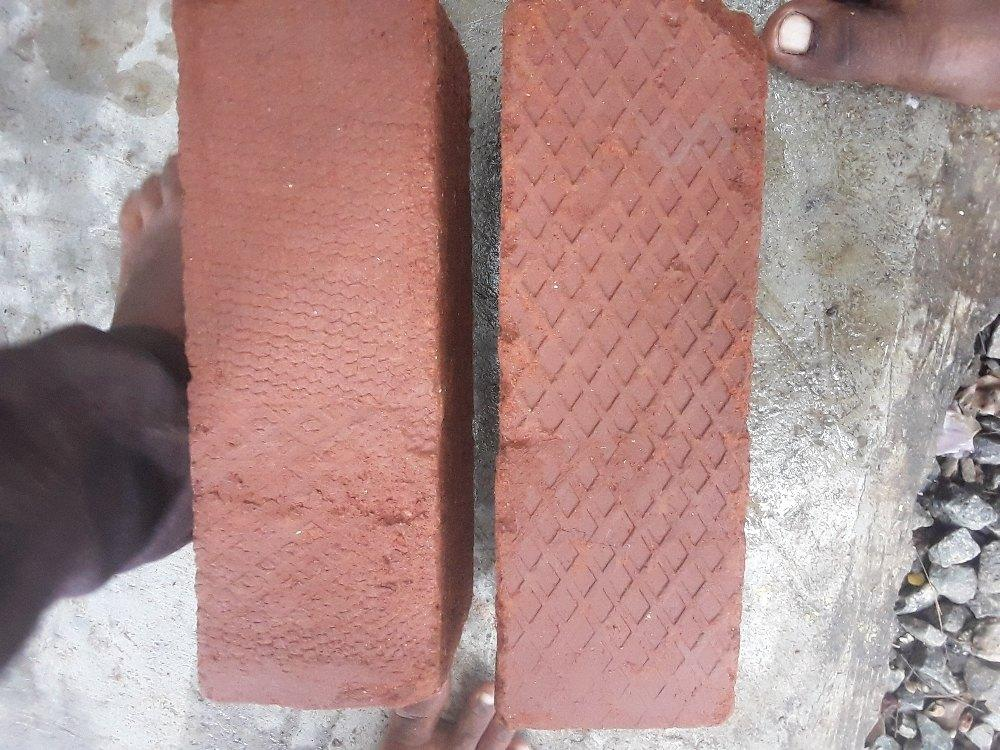brick: (498, 0, 762, 734), (178, 2, 438, 708)
